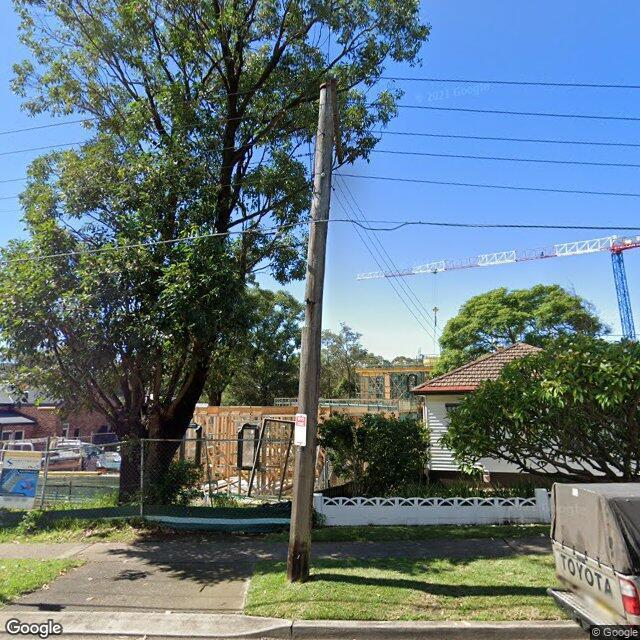timber-pole: (286, 80, 339, 583)
